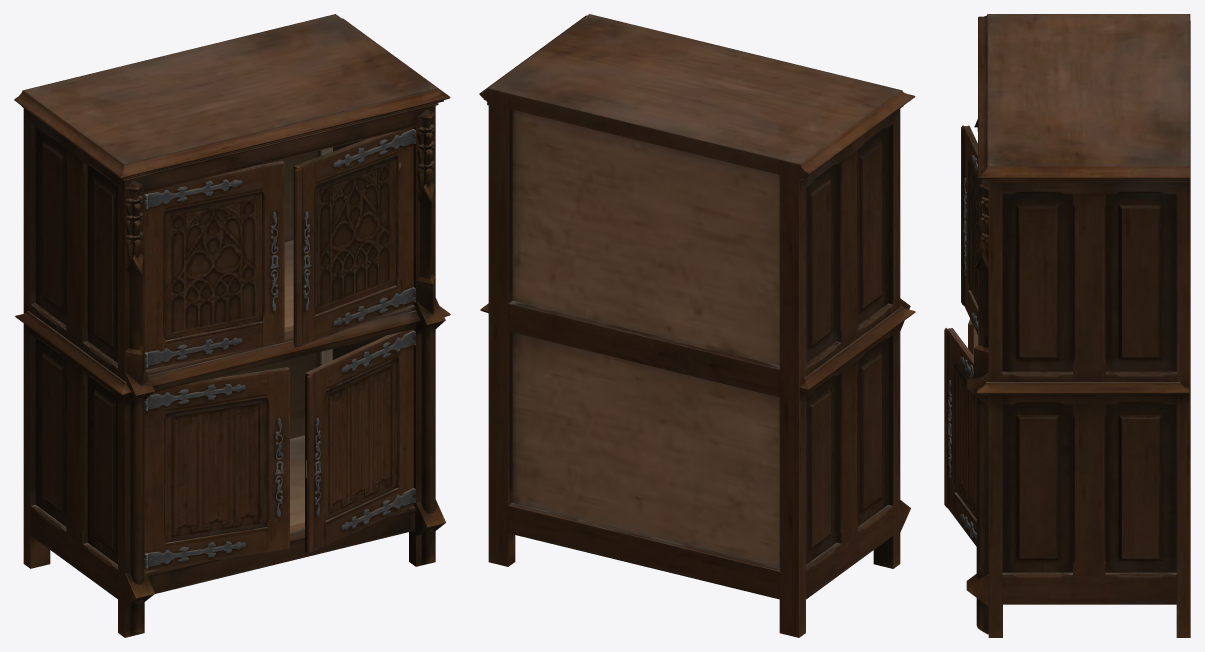
The model's file is gothic-cabinet.glb.
The picture shows the model from 3 angles, left to right: view 1: azimuth 30°, elevation 25°; view 2: azimuth 150°, elevation 25°; view 3: azimuth 270°, elevation 25°; orthographic projection.
Visible parts, largest first — view 1: GothicCabinet_01_cabinet; view 2: GothicCabinet_01_cabinet; view 3: GothicCabinet_01_cabinet.
Part boxes in pixels (bbox=[...]): GothicCabinet_01_cabinet: bbox=[14, 14, 450, 637]; GothicCabinet_01_cabinet: bbox=[479, 14, 915, 637]; GothicCabinet_01_cabinet: bbox=[944, 14, 1190, 637].
Bounding box in the file's own units: 1.72 × 2.36 × 1.12.
Materials: 1 (1 with a texture image).
